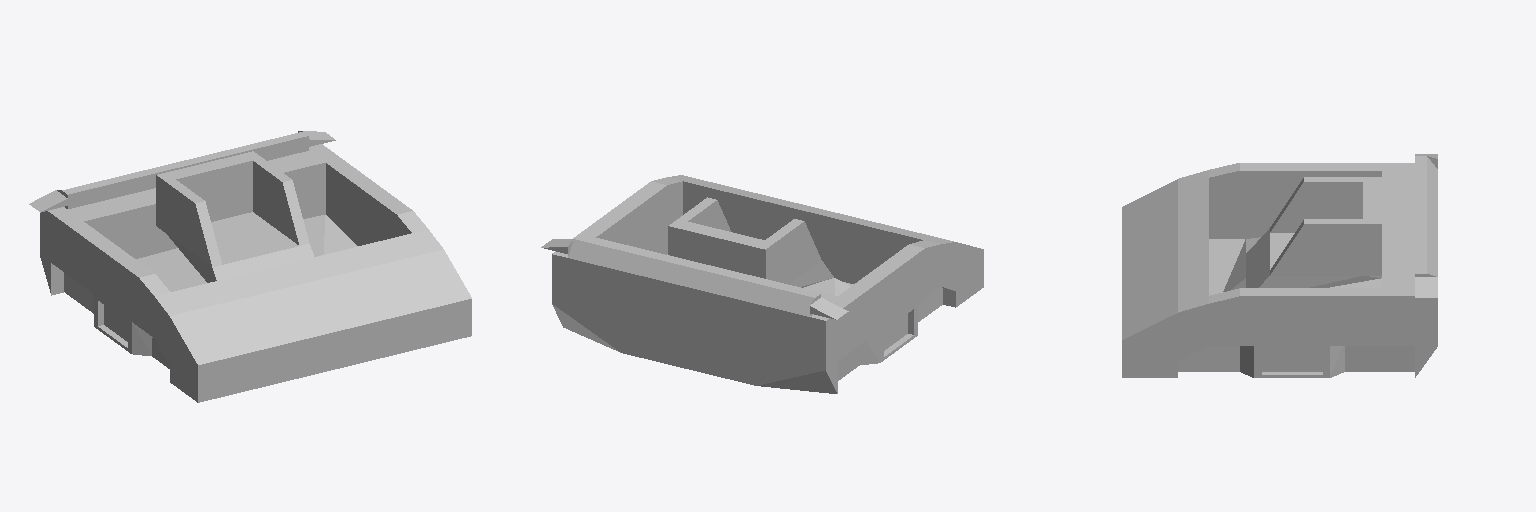
Rendered from Kart1.obj.
3 renders of one model, left to right at view 1: azimuth 30°, elevation 25°; view 2: azimuth 150°, elevation 25°; view 3: azimuth 270°, elevation 25°, orthographic.
Parts seen in each view (by area): view 1: pCube4; view 2: pCube4; view 3: pCube4.
Part boxes in pixels (x1,y1,x2,y2): pCube4: (29, 131, 471, 402); pCube4: (541, 175, 983, 393); pCube4: (1122, 154, 1437, 377).
Bounding box in the file's own units: 1.08 × 0.3869 × 1.